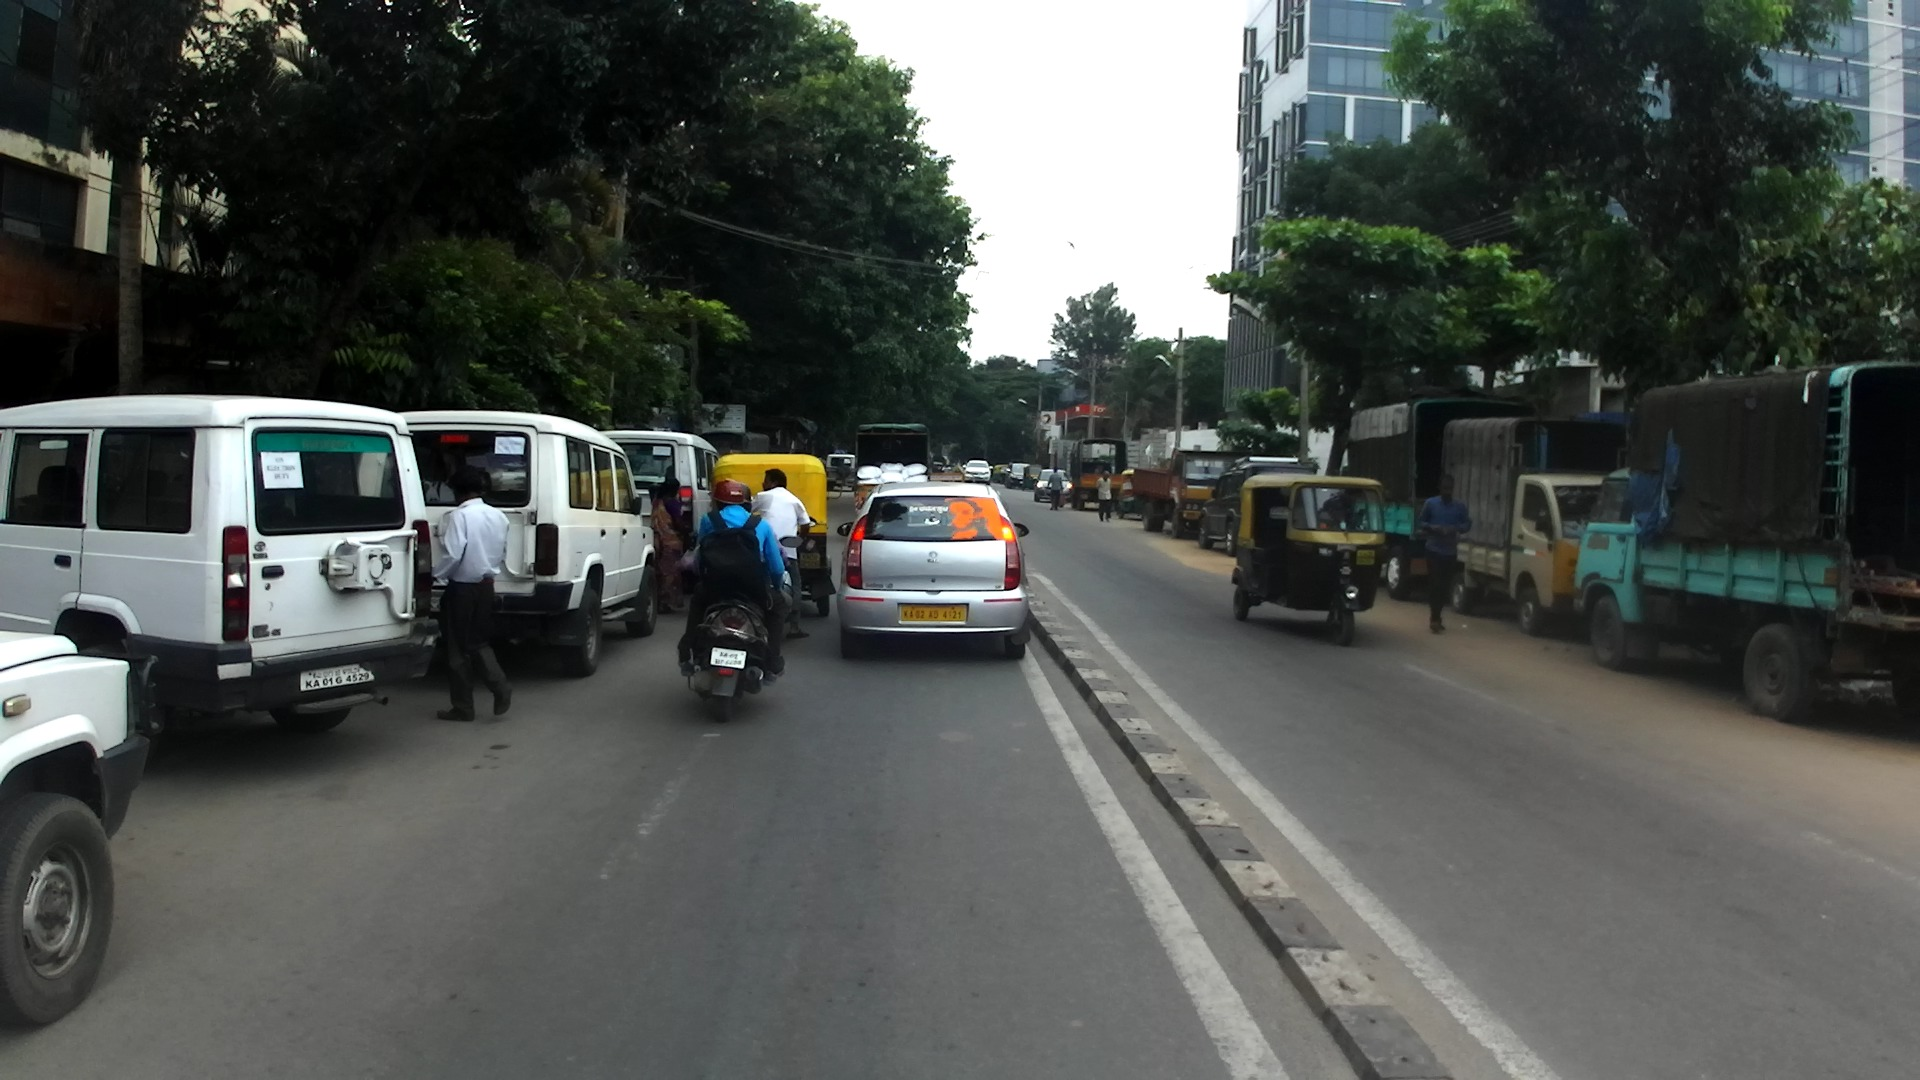autorickshaw: (1231, 473, 1393, 647), (711, 453, 836, 618), (1117, 469, 1144, 520), (1022, 464, 1043, 490), (991, 464, 1007, 485)
car: (1, 393, 441, 738), (396, 411, 657, 676), (1, 629, 163, 1026), (837, 482, 1029, 661), (599, 429, 721, 594), (1197, 456, 1316, 554), (1034, 467, 1076, 504), (826, 453, 856, 491), (1004, 460, 1033, 489), (961, 459, 994, 483)
motorcycle: (677, 537, 805, 723), (760, 517, 819, 628)
person: (424, 466, 512, 720), (1419, 473, 1472, 633), (647, 478, 688, 612), (1094, 470, 1115, 523), (1048, 467, 1064, 511)
rider: (677, 480, 786, 687), (682, 484, 791, 642), (751, 469, 810, 638)
truck: (1571, 357, 1920, 722), (1441, 415, 1631, 634), (1339, 390, 1536, 599), (1133, 449, 1252, 537), (853, 422, 930, 518), (1069, 437, 1127, 511), (699, 430, 770, 462)
vehicle fallback: (929, 465, 965, 482), (932, 454, 946, 471)
